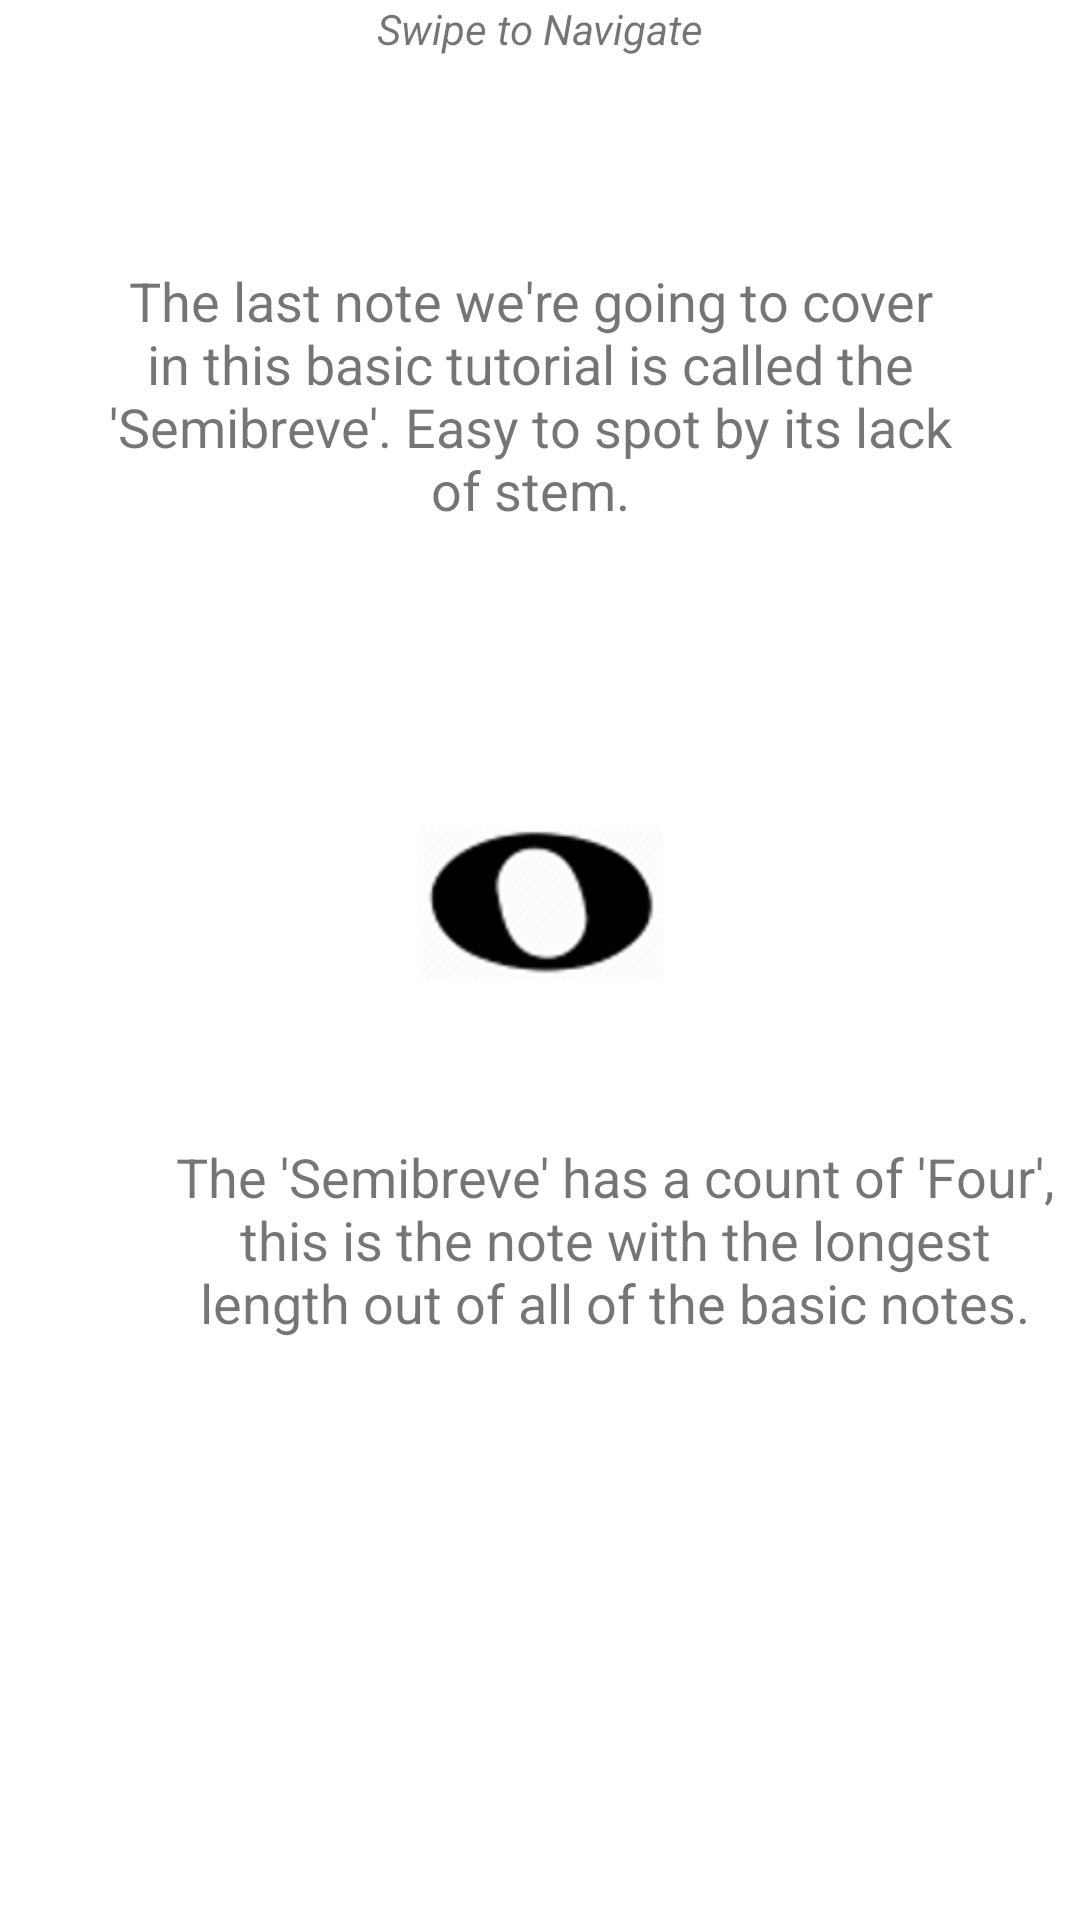

Where icons sit on this 1080*1920 app screen, as (x1, y1, x2, y2):
semibreve: (429, 831, 653, 973)
